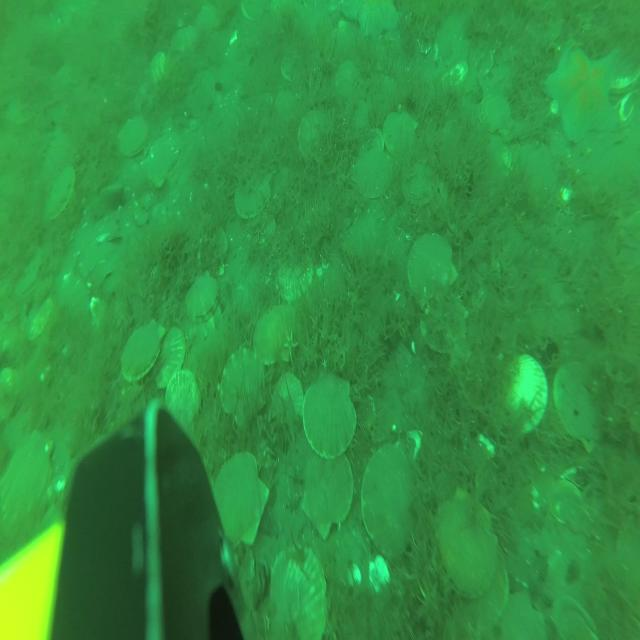scallop: (434, 490, 500, 600), (360, 438, 417, 557), (209, 447, 271, 549), (266, 540, 328, 640), (553, 356, 613, 454), (1, 429, 54, 537), (302, 366, 358, 462), (496, 343, 550, 439), (300, 449, 355, 538), (405, 230, 460, 307), (218, 346, 270, 427), (460, 564, 512, 634), (252, 300, 299, 368), (120, 319, 168, 383), (419, 298, 471, 355), (351, 143, 395, 202), (164, 366, 201, 433), (498, 590, 546, 640), (297, 103, 333, 167), (153, 328, 187, 394), (233, 169, 275, 221), (381, 107, 420, 161), (545, 477, 585, 529), (400, 162, 443, 209), (275, 257, 315, 305), (147, 131, 180, 189), (183, 275, 221, 325), (45, 164, 77, 219), (479, 92, 516, 139), (186, 68, 218, 118), (115, 118, 152, 160), (333, 59, 365, 107), (1, 362, 23, 425), (26, 297, 54, 346), (274, 86, 303, 124), (170, 25, 198, 64), (280, 44, 305, 85), (148, 48, 169, 86), (238, 0, 266, 23)
starfish: (544, 38, 621, 149), (334, 0, 403, 43)
